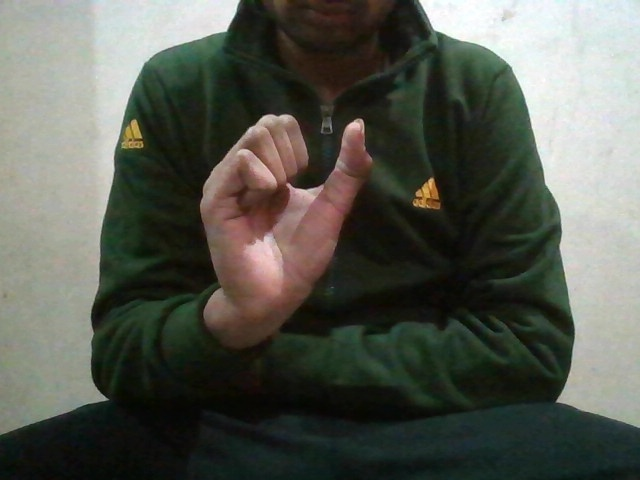S: (203, 111, 368, 279)
